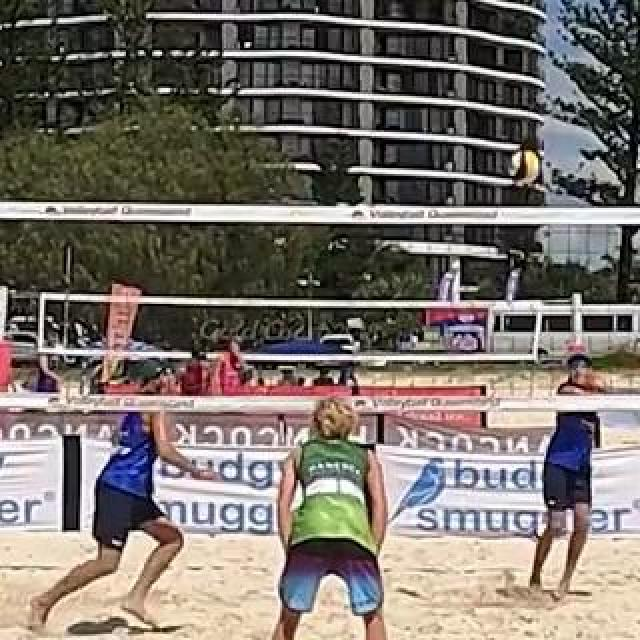volleyball: (511, 150, 541, 182)
